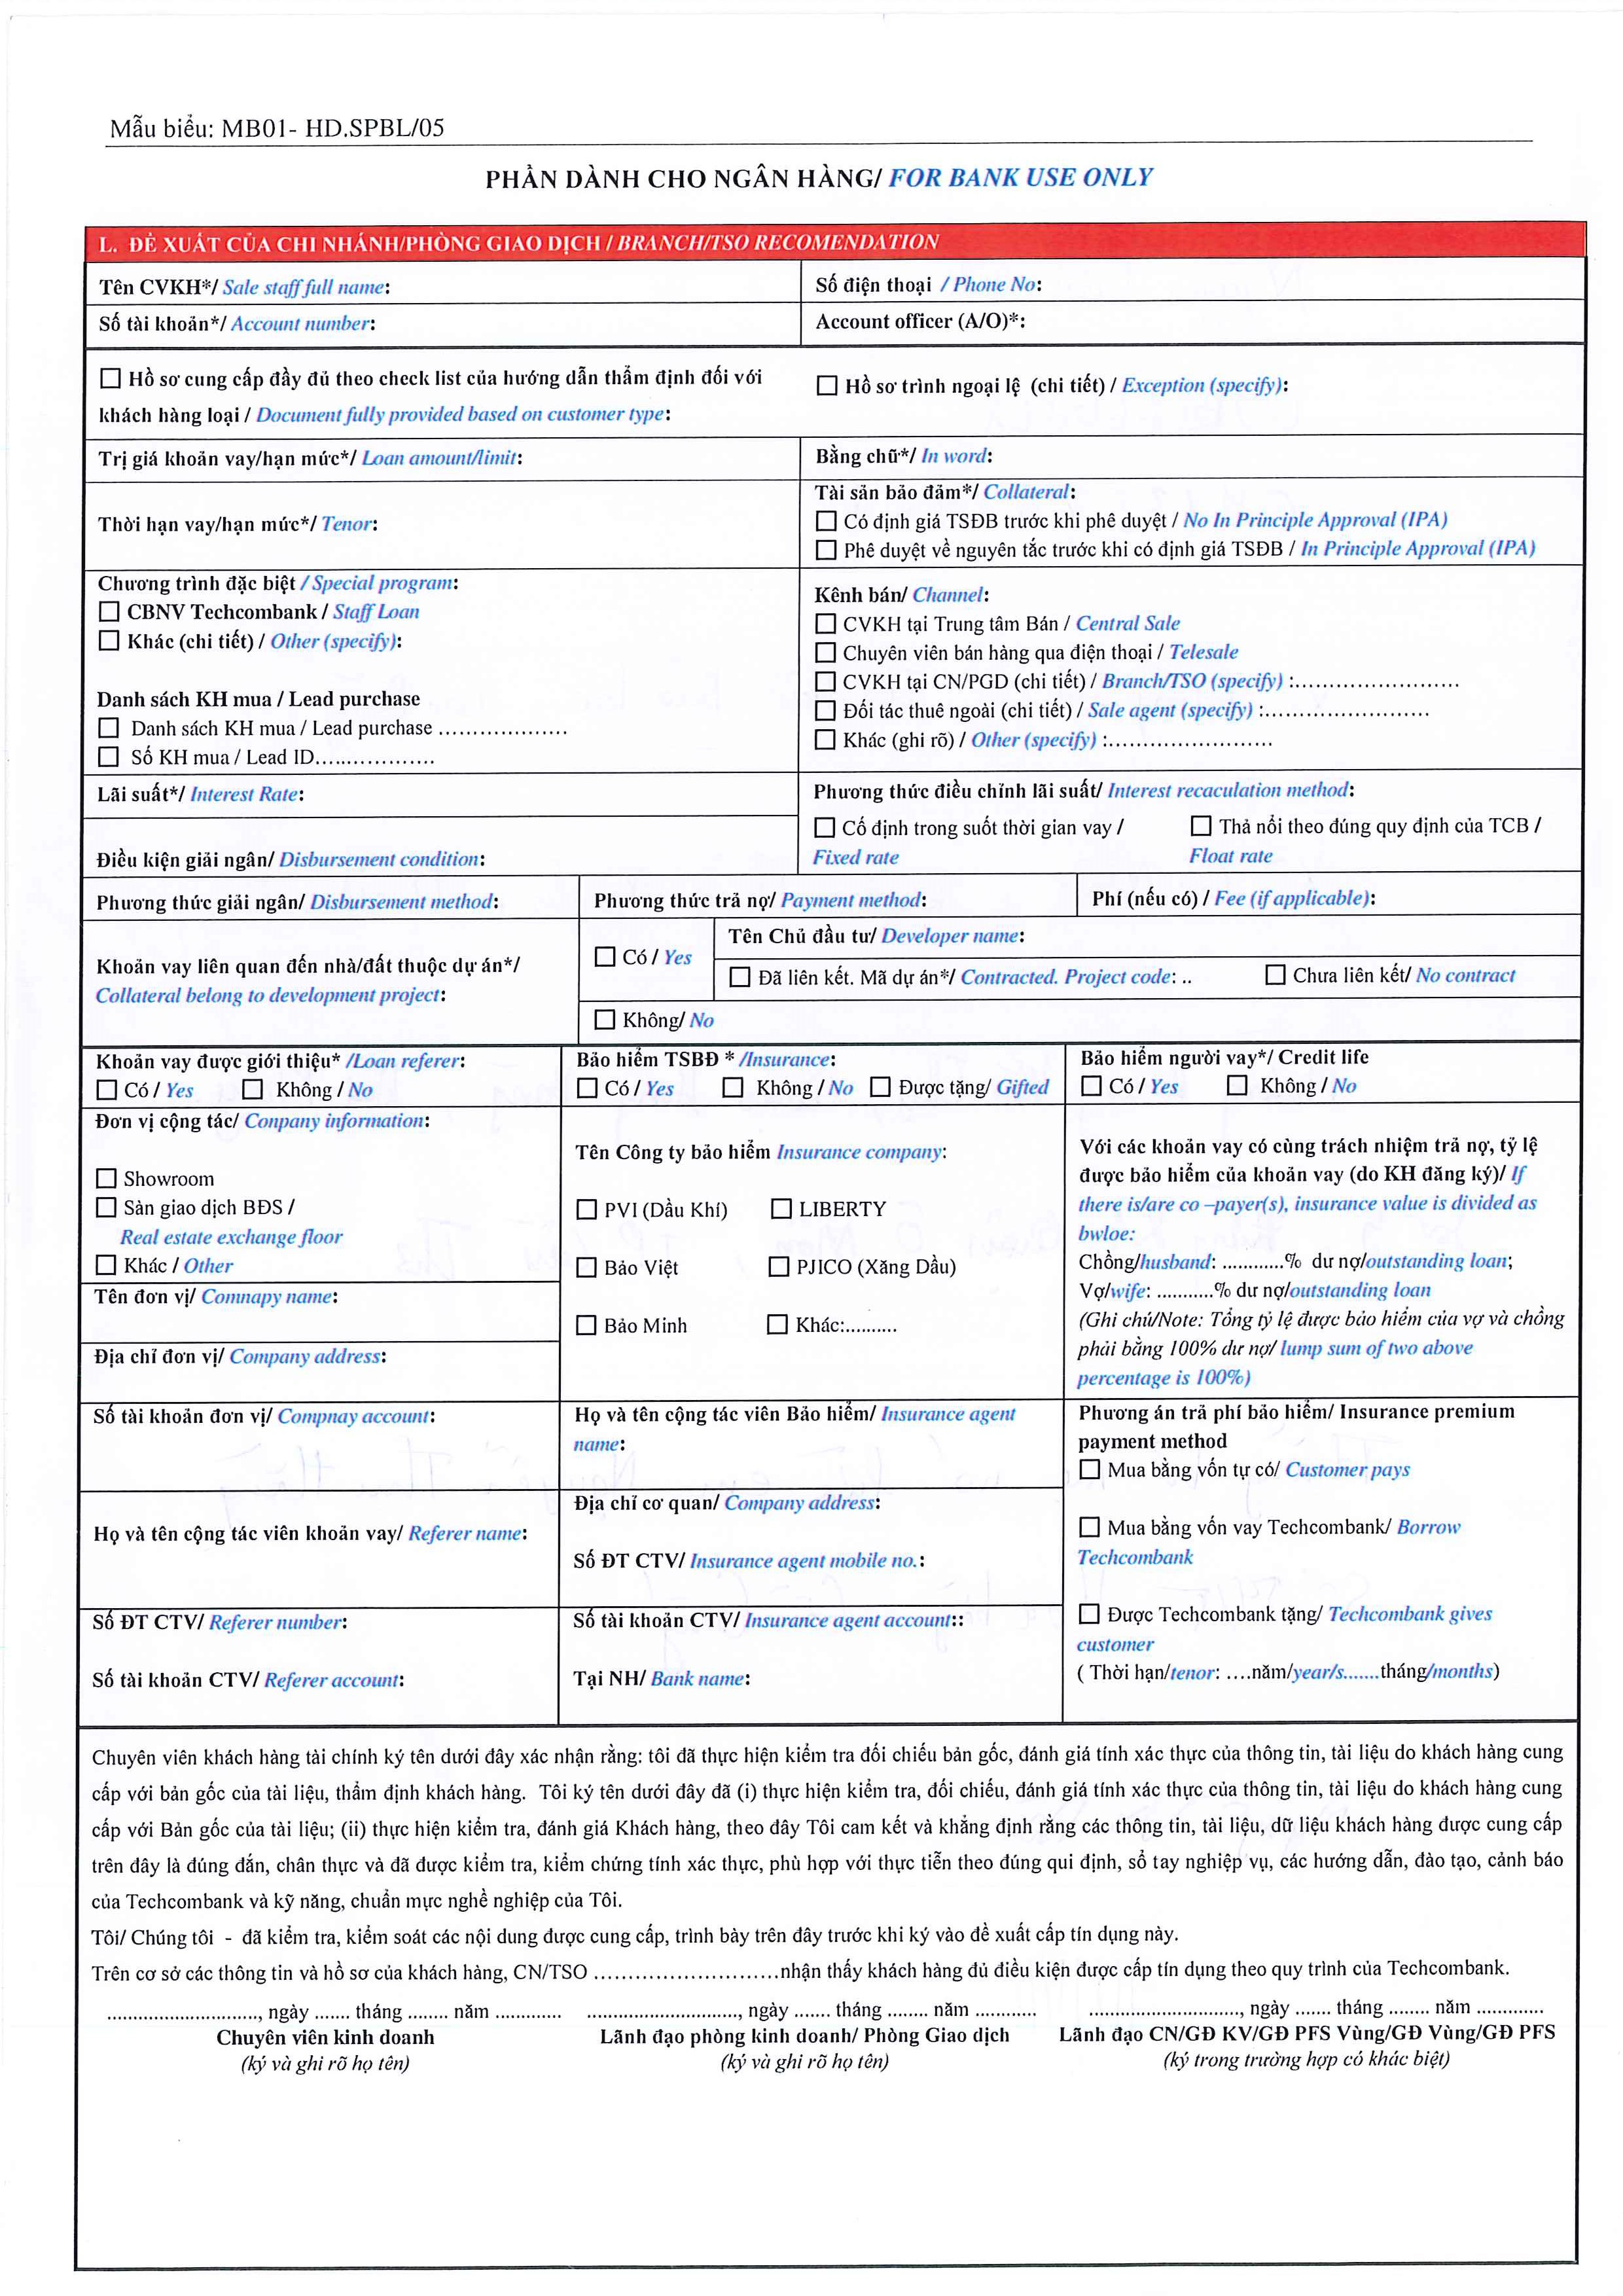g: (766, 1189, 799, 1224), (811, 367, 843, 402), (1077, 1449, 1108, 1484), (590, 938, 622, 971), (808, 812, 840, 843), (864, 1068, 896, 1100), (762, 1249, 794, 1281), (95, 360, 125, 393), (237, 1073, 267, 1107), (764, 1307, 794, 1340), (1073, 1595, 1103, 1628), (91, 710, 121, 741), (1075, 1070, 1107, 1100), (91, 1188, 121, 1219), (571, 1191, 601, 1223), (1075, 1509, 1105, 1541), (1261, 957, 1289, 991), (573, 1070, 601, 1103), (573, 1249, 601, 1282), (811, 534, 841, 564), (811, 608, 841, 638), (88, 1161, 118, 1191), (1187, 810, 1215, 841), (573, 1309, 599, 1342), (811, 504, 840, 534), (811, 638, 840, 668), (95, 624, 123, 653), (588, 1005, 618, 1033), (93, 1073, 121, 1103), (718, 1072, 747, 1101), (1223, 1070, 1252, 1098), (811, 696, 840, 724), (724, 963, 752, 991), (811, 666, 838, 696), (93, 596, 119, 625), (95, 738, 121, 768), (93, 1249, 119, 1277), (811, 727, 840, 752)
